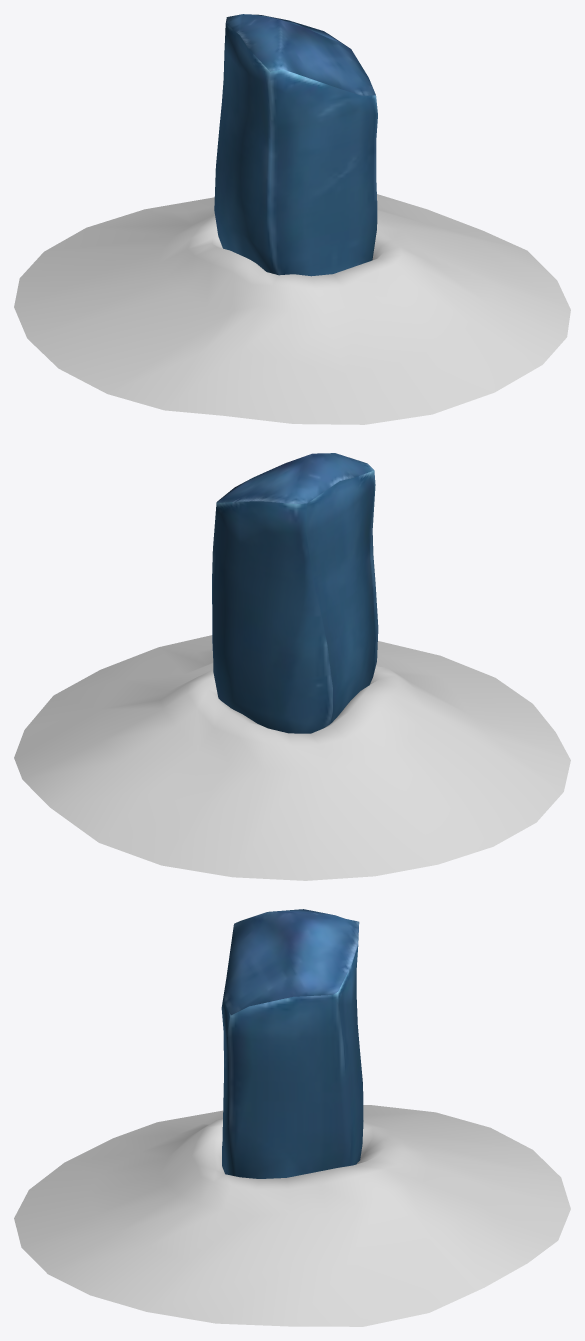
File: crystal1c.glb
3 views of the same model, one above another, from view 1: azimuth 30°, elevation 25°; view 2: azimuth 150°, elevation 25°; view 3: azimuth 270°, elevation 25° (orthographic). The views are drawn at different scales.
Parts seen in each view (by area): view 1: crystalbase, crystal1c_LOD0; view 2: crystalbase, crystal1c_LOD0; view 3: crystalbase, crystal1c_LOD0.
Boxes of the visible parts, x1,y1,x2,y2 form: crystalbase: (14, 194, 570, 424); crystal1c_LOD0: (214, 14, 377, 276); crystalbase: (14, 635, 570, 880); crystal1c_LOD0: (212, 453, 378, 733); crystalbase: (14, 1105, 570, 1326); crystal1c_LOD0: (221, 909, 363, 1178).
Bounding box in the file's own units: 2.81 × 1.72 × 2.9.
Materials: 2 (1 with a texture image).
